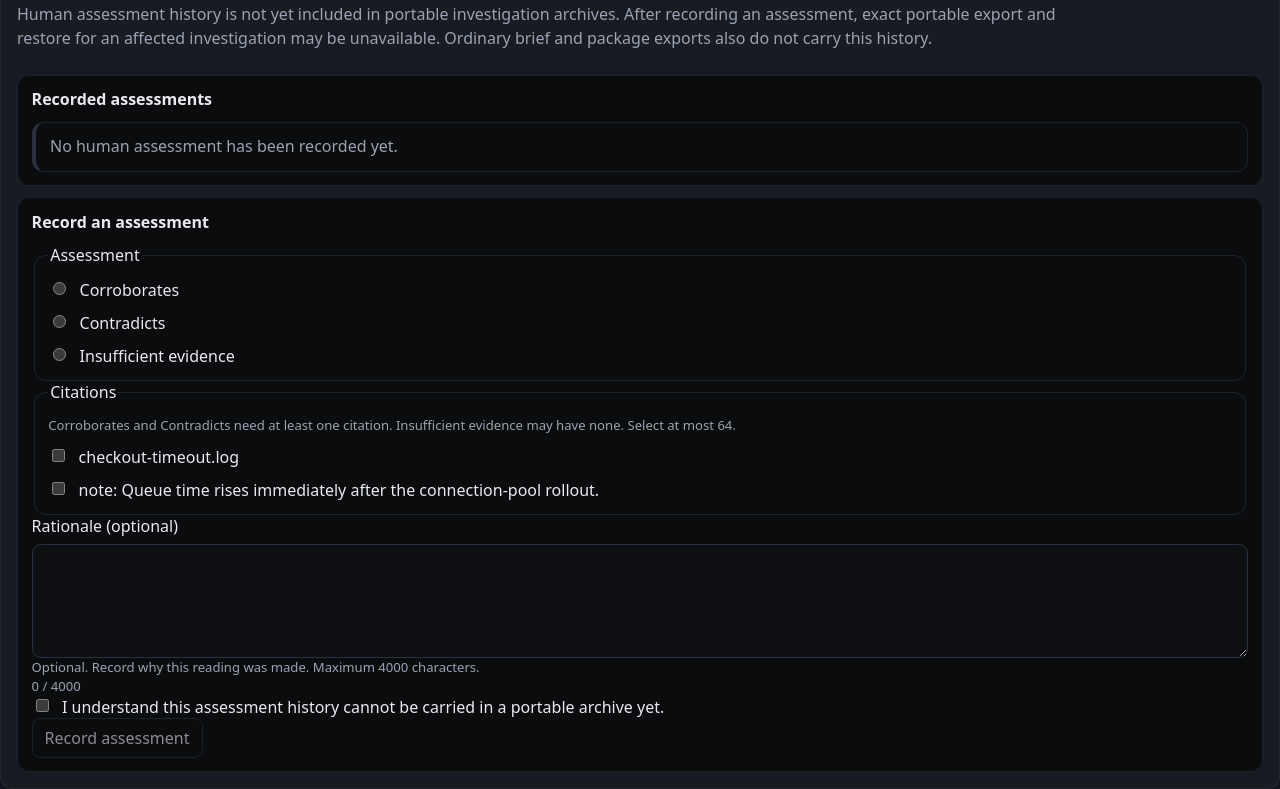
Test: shared human assessments panel › maps privacy_mismatch without exposing private detail
(page scrolled)
Click the checkbox labelled "I understand this assessment history cannot be carried": (42, 706) 36,699 -> 49,712
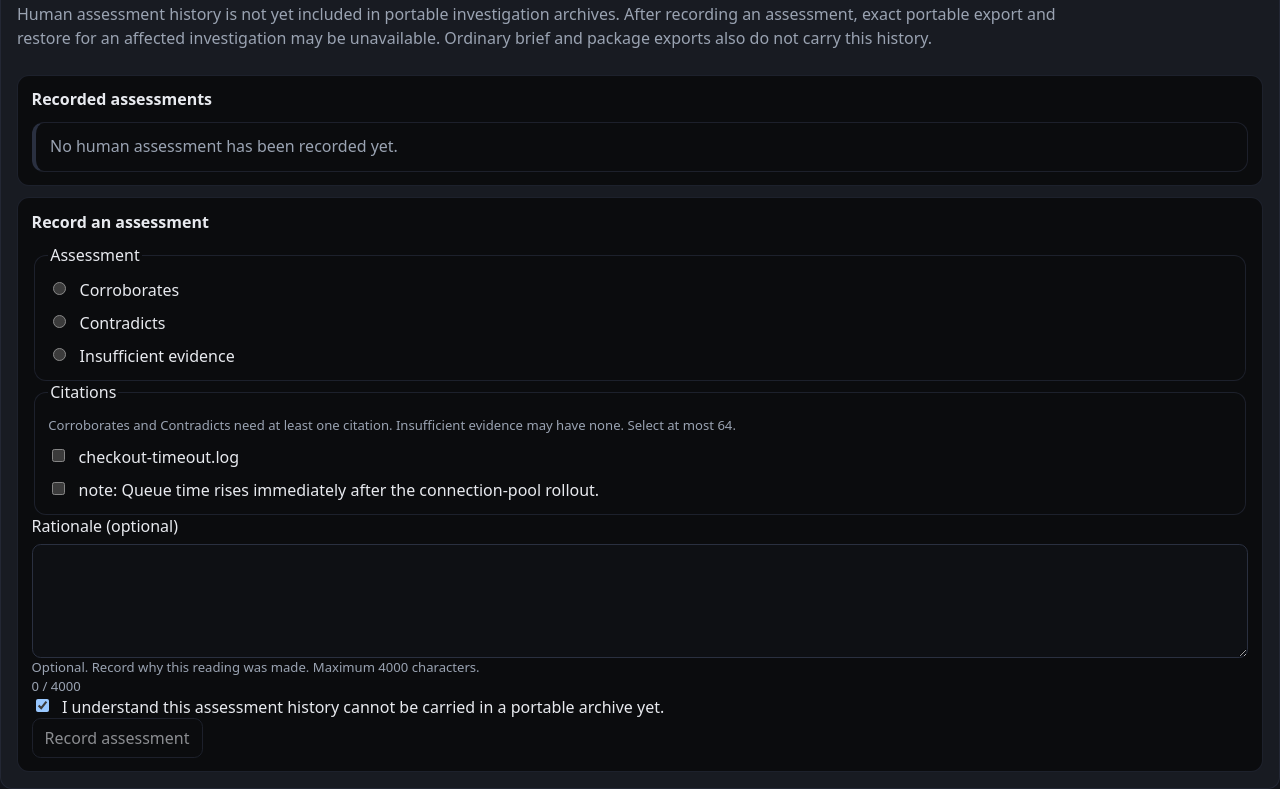
Click the radio button labelled "Insufficient evidence": (60, 355) 53,348 -> 66,362
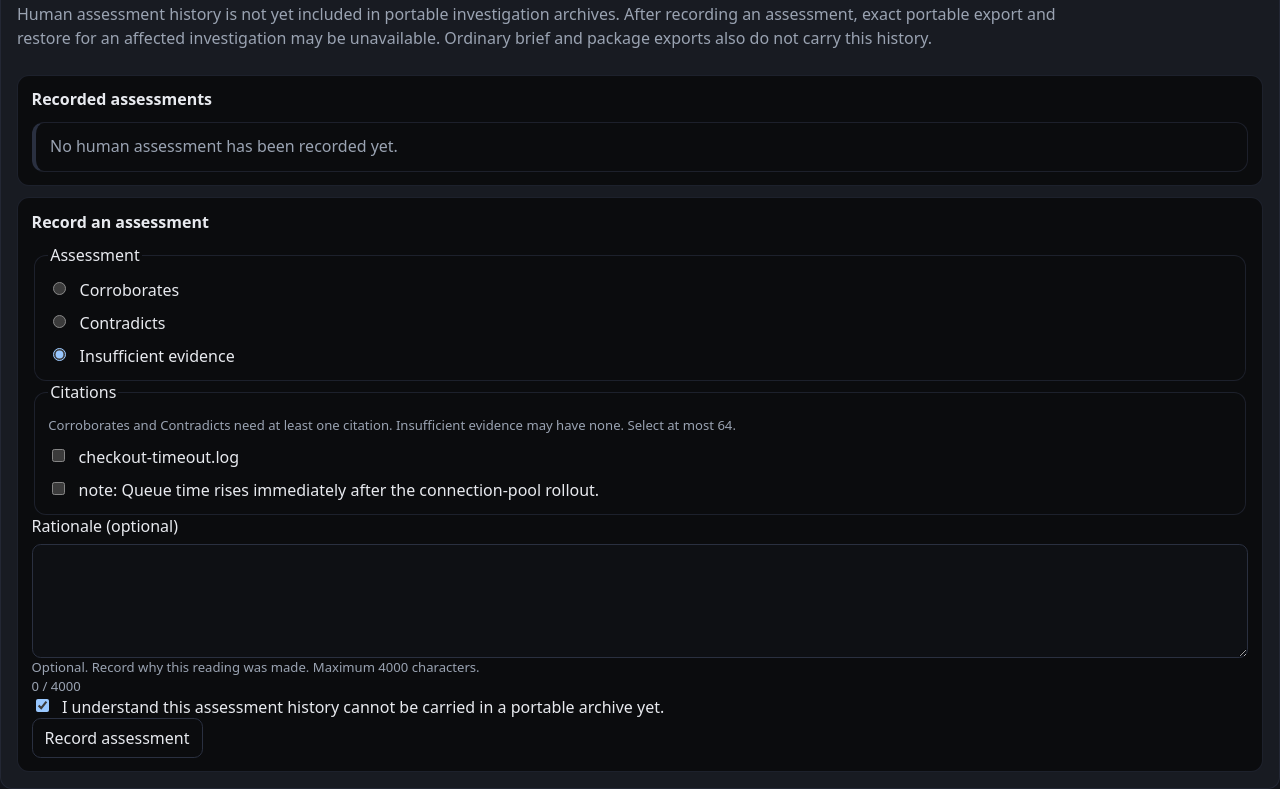
Click the button "Record assessment": (117, 738) 32,718 -> 202,758
(page scrolled)
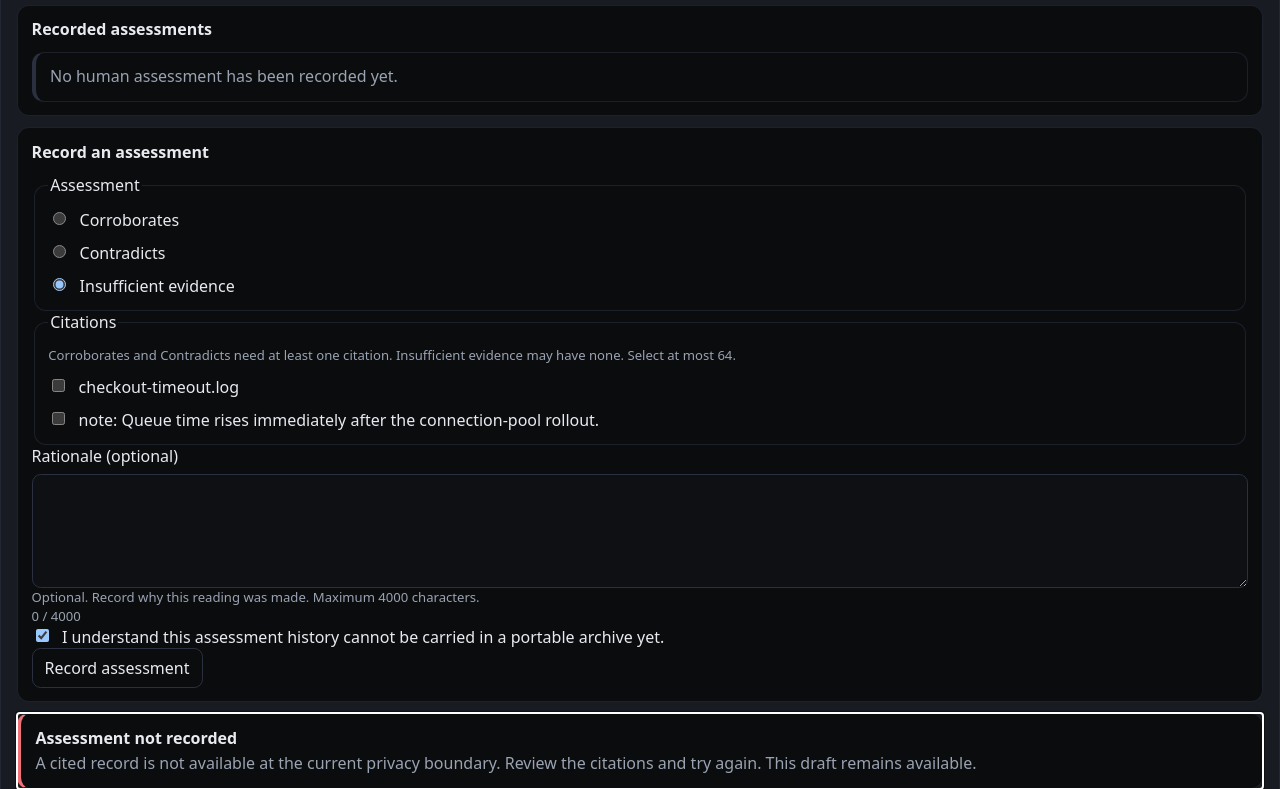
Expected: the radio button labelled "Insufficient evidence" is checked, 53,278 -> 66,292
Expected: the message that starts with "Assessment not recorded" shows "privacy boundary", 35,752 -> 977,774
